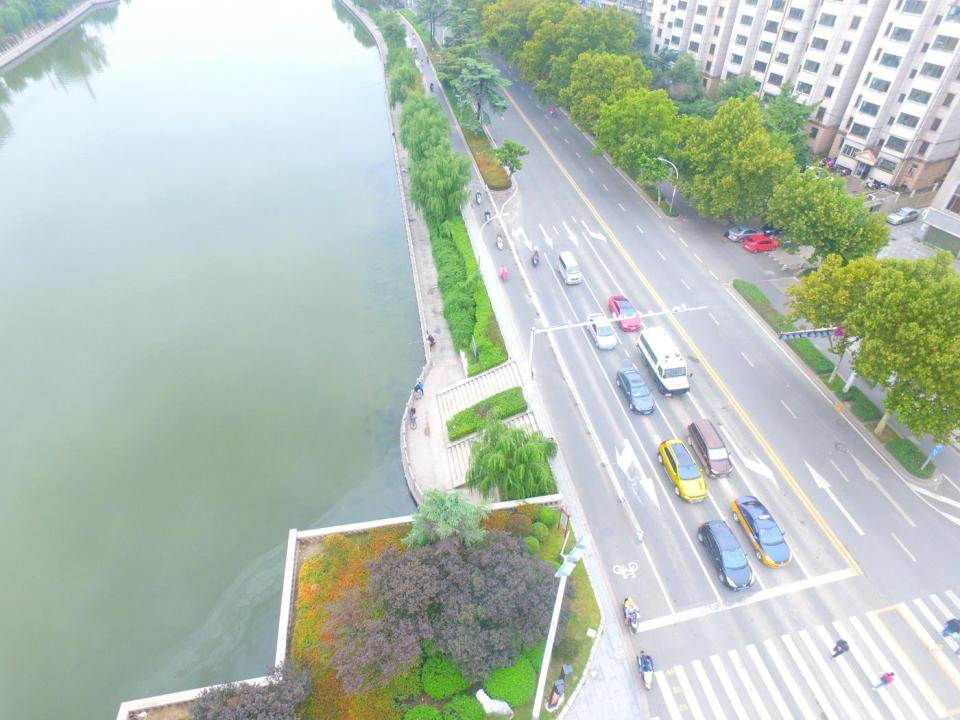car: (732, 496, 792, 568), (696, 520, 756, 592), (657, 439, 707, 503), (616, 367, 656, 415), (608, 295, 642, 331), (586, 312, 617, 350), (760, 216, 805, 237), (776, 228, 815, 248), (885, 206, 921, 226), (744, 235, 778, 254), (728, 226, 765, 243), (804, 165, 835, 185)
van: (636, 326, 693, 396), (686, 418, 733, 479), (557, 250, 581, 285)
